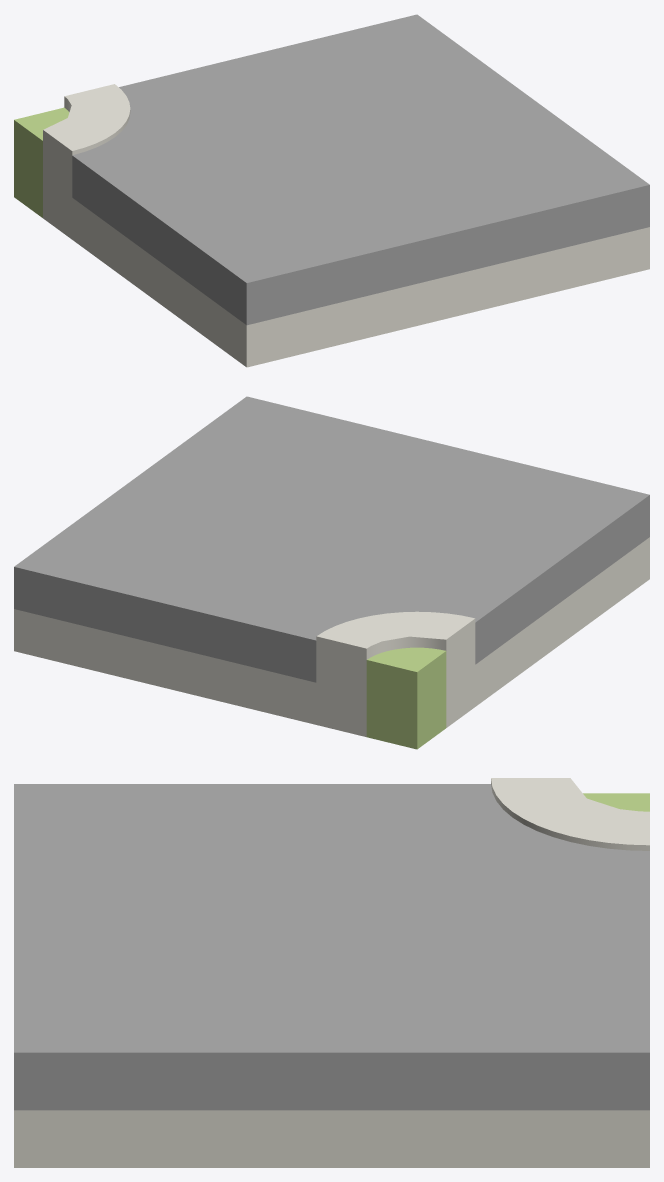
File: roadTile_055.glb
3 renders of one model, top to bottom at view 1: azimuth 30°, elevation 25°; view 2: azimuth 150°, elevation 25°; view 3: azimuth 270°, elevation 25°, orthographic. The views are drawn at different scales.
Visible parts, largest first — view 1: Mesh1 Group1 Model; view 2: Mesh1 Group1 Model; view 3: Mesh1 Group1 Model.
Part boxes in pixels (left/top/right/bottom): Mesh1 Group1 Model: left=14, top=14, right=649, bottom=367; Mesh1 Group1 Model: left=14, top=396, right=649, bottom=749; Mesh1 Group1 Model: left=14, top=778, right=649, bottom=1167.
Bounding box in the file's own units: 3 × 0.63 × 3.
